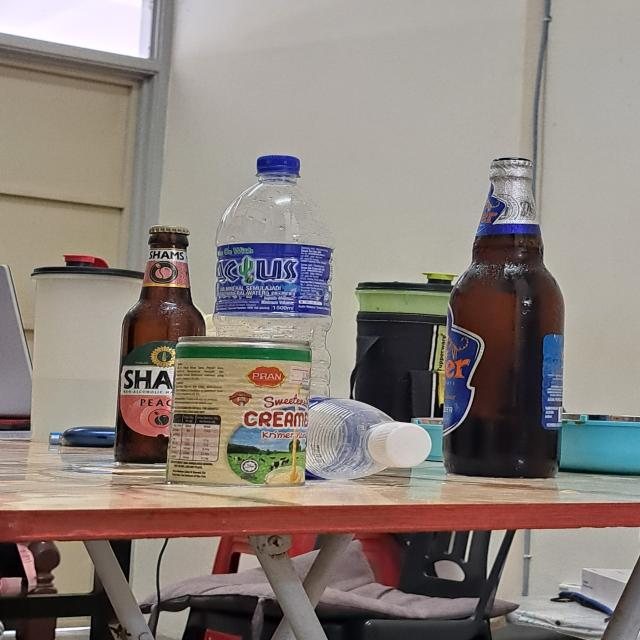can: (172, 333, 308, 485)
glass bottle: (449, 158, 563, 478), (119, 223, 207, 462)
plastic bottle: (213, 154, 329, 454), (305, 394, 433, 484)
plastic bottle cap: (366, 418, 436, 468), (250, 156, 305, 182)
